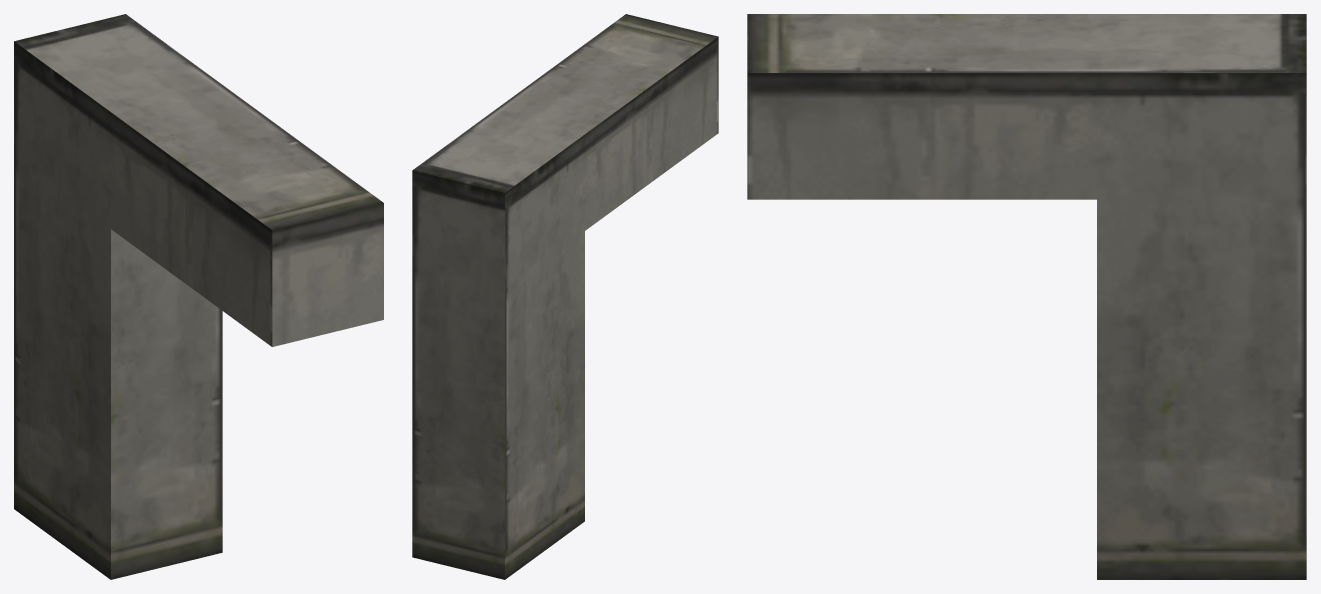
Rendered from SM_WALL_S_06.fbx.
3 renders of one model, left to right at view 1: azimuth 30°, elevation 25°; view 2: azimuth 150°, elevation 25°; view 3: azimuth 270°, elevation 25°, orthographic. The views are drawn at different scales.
Parts seen in each view (by area): view 1: SM_WALL_S_06; view 2: SM_WALL_S_06; view 3: SM_WALL_S_06.
Boxes of the visible parts, x1,y1,x2,y2 form: SM_WALL_S_06: (14, 14, 383, 579); SM_WALL_S_06: (412, 14, 718, 579); SM_WALL_S_06: (747, 14, 1306, 579).
Size of the model in its own units: 1 by 4 by 4.
